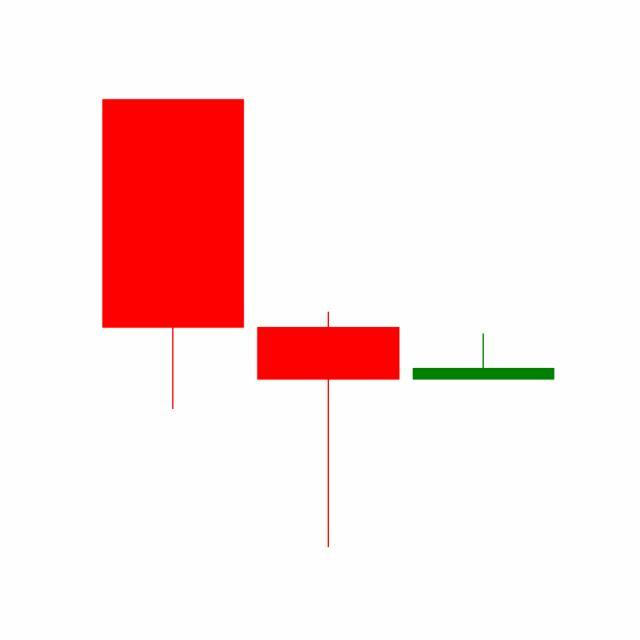Dragonfly Doji: (250, 310, 407, 552)
